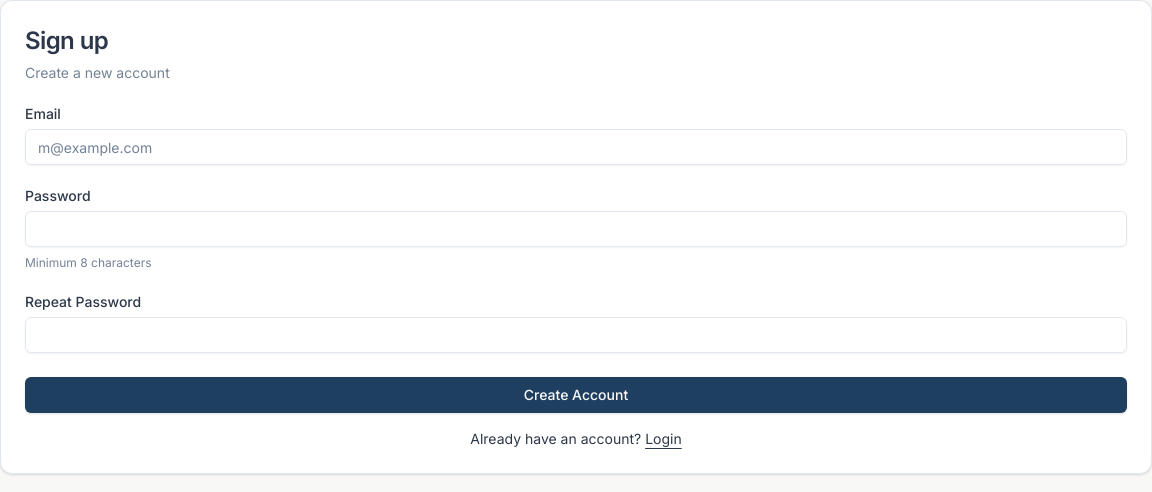
Test: SignUpForm › button text › displays 'Creating account...' when submitting
Type "test@example.com" into the field labelled "Email" at (576, 147), box [25, 129, 1127, 165]
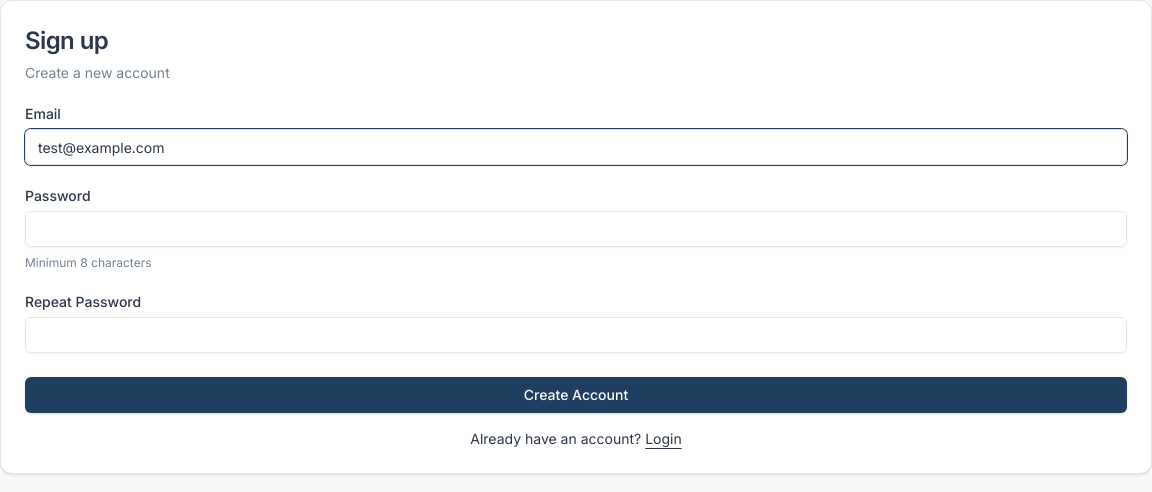
Type "password123" into the password field labelled "Password" at (576, 229), box [25, 211, 1127, 247]
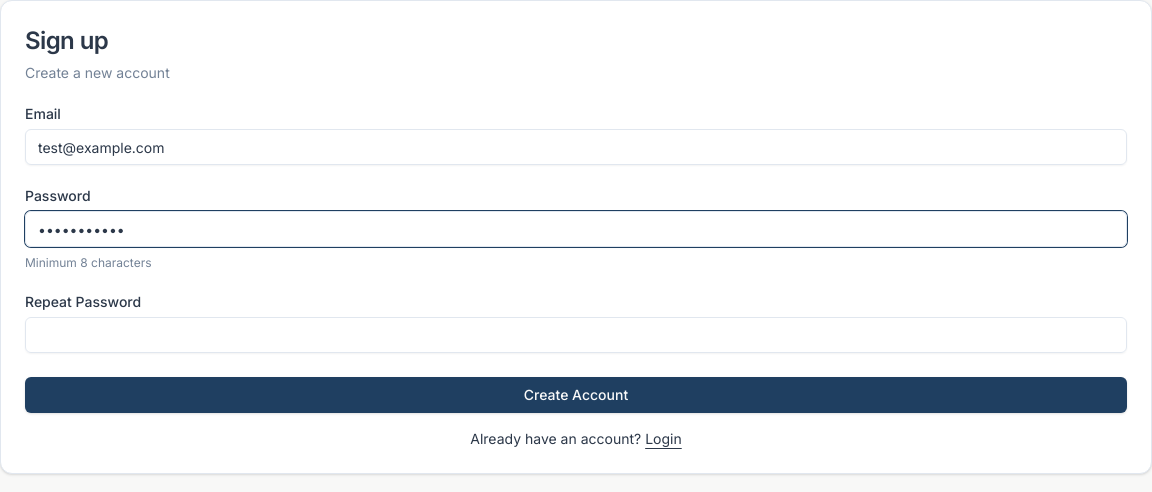
Type "password123" into the password field labelled "Repeat Password" at (576, 335), box [25, 317, 1127, 353]
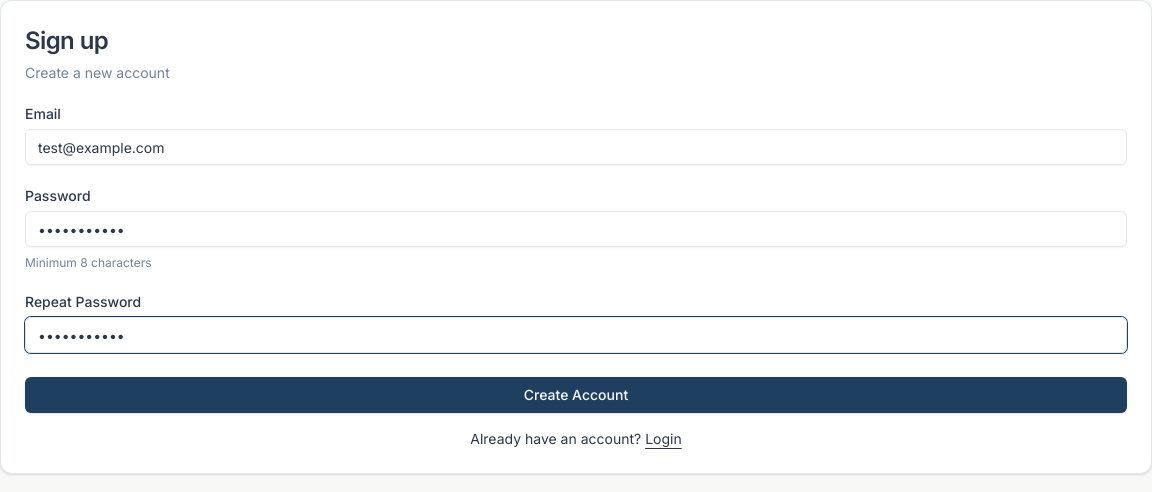
Click the button "Create Account" at (576, 395), box [25, 377, 1127, 413]
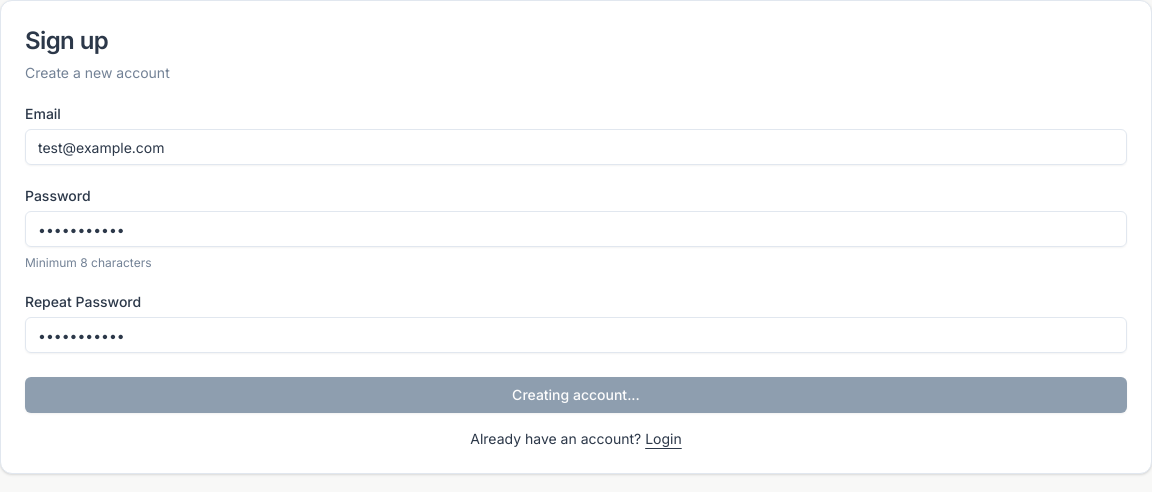
Result: the button "Creating account..." is shown at [25, 377, 1127, 413]
